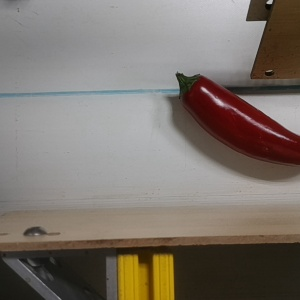Cut Point: (175, 69, 209, 109)
